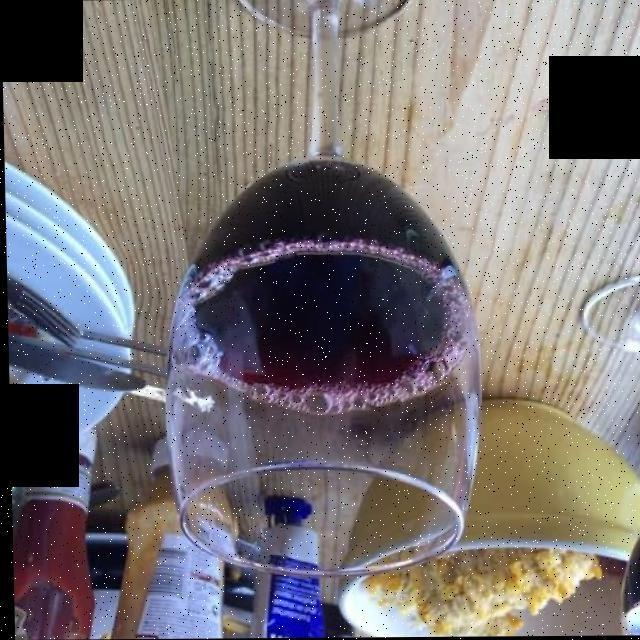wine: (175, 151, 476, 396)
